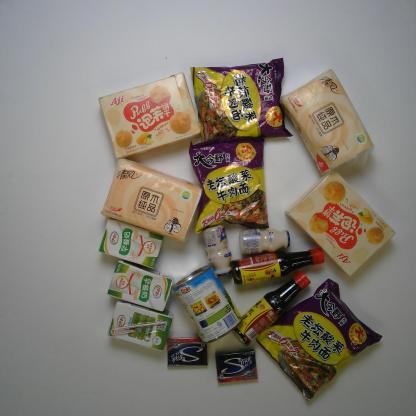Canned Food: (171, 262, 245, 346)
Dessert: (283, 167, 397, 278), (97, 71, 202, 161)
Gum: (215, 347, 259, 385), (165, 336, 209, 368)
Instant Noodles: (254, 277, 384, 403), (189, 56, 296, 148), (187, 135, 271, 234)
Milk: (106, 258, 175, 314), (96, 217, 166, 270), (106, 302, 175, 354), (200, 223, 234, 278), (238, 225, 293, 256)
Seasoner: (228, 268, 312, 348), (230, 246, 327, 287)
Tissue: (277, 68, 376, 178), (100, 157, 204, 246)
